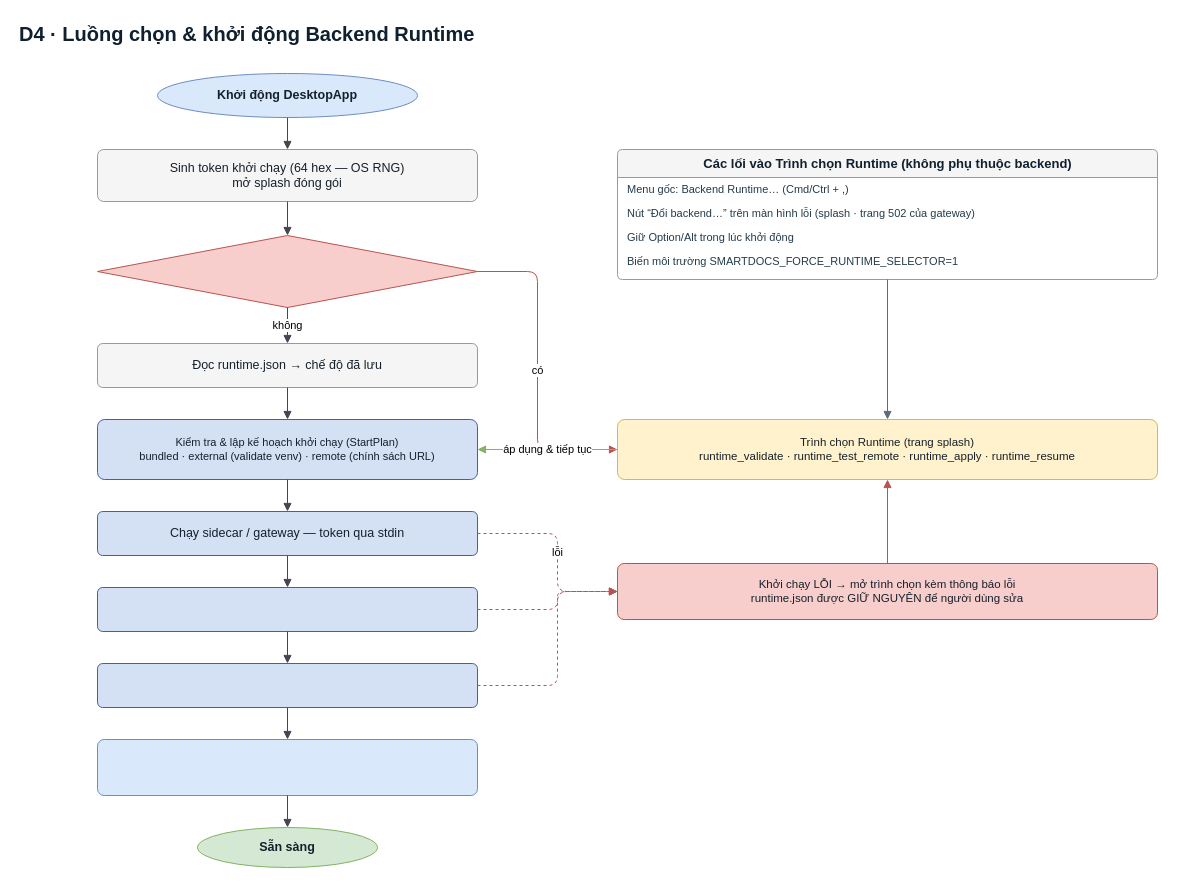
The diagram is 1194 pixels wide and 885 high, and some of its shapes have lost their labels. Here are the shapes that lost their labels. From the top down, the centre of each, then its label:
[287,271]: Ép mở trình chọn runtime? (giữ Option/Alt · biến môi trường)
[287,609]: Handshake stdout ≤ 90 giây → cổng gateway
[287,685]: Thăm dò /api/desktop/health ≤ 30 giây (kèm token)
[287,767]: WebView → /desktop/boot → cookie phiên → giao diện SmartDocs (cùng origin)
